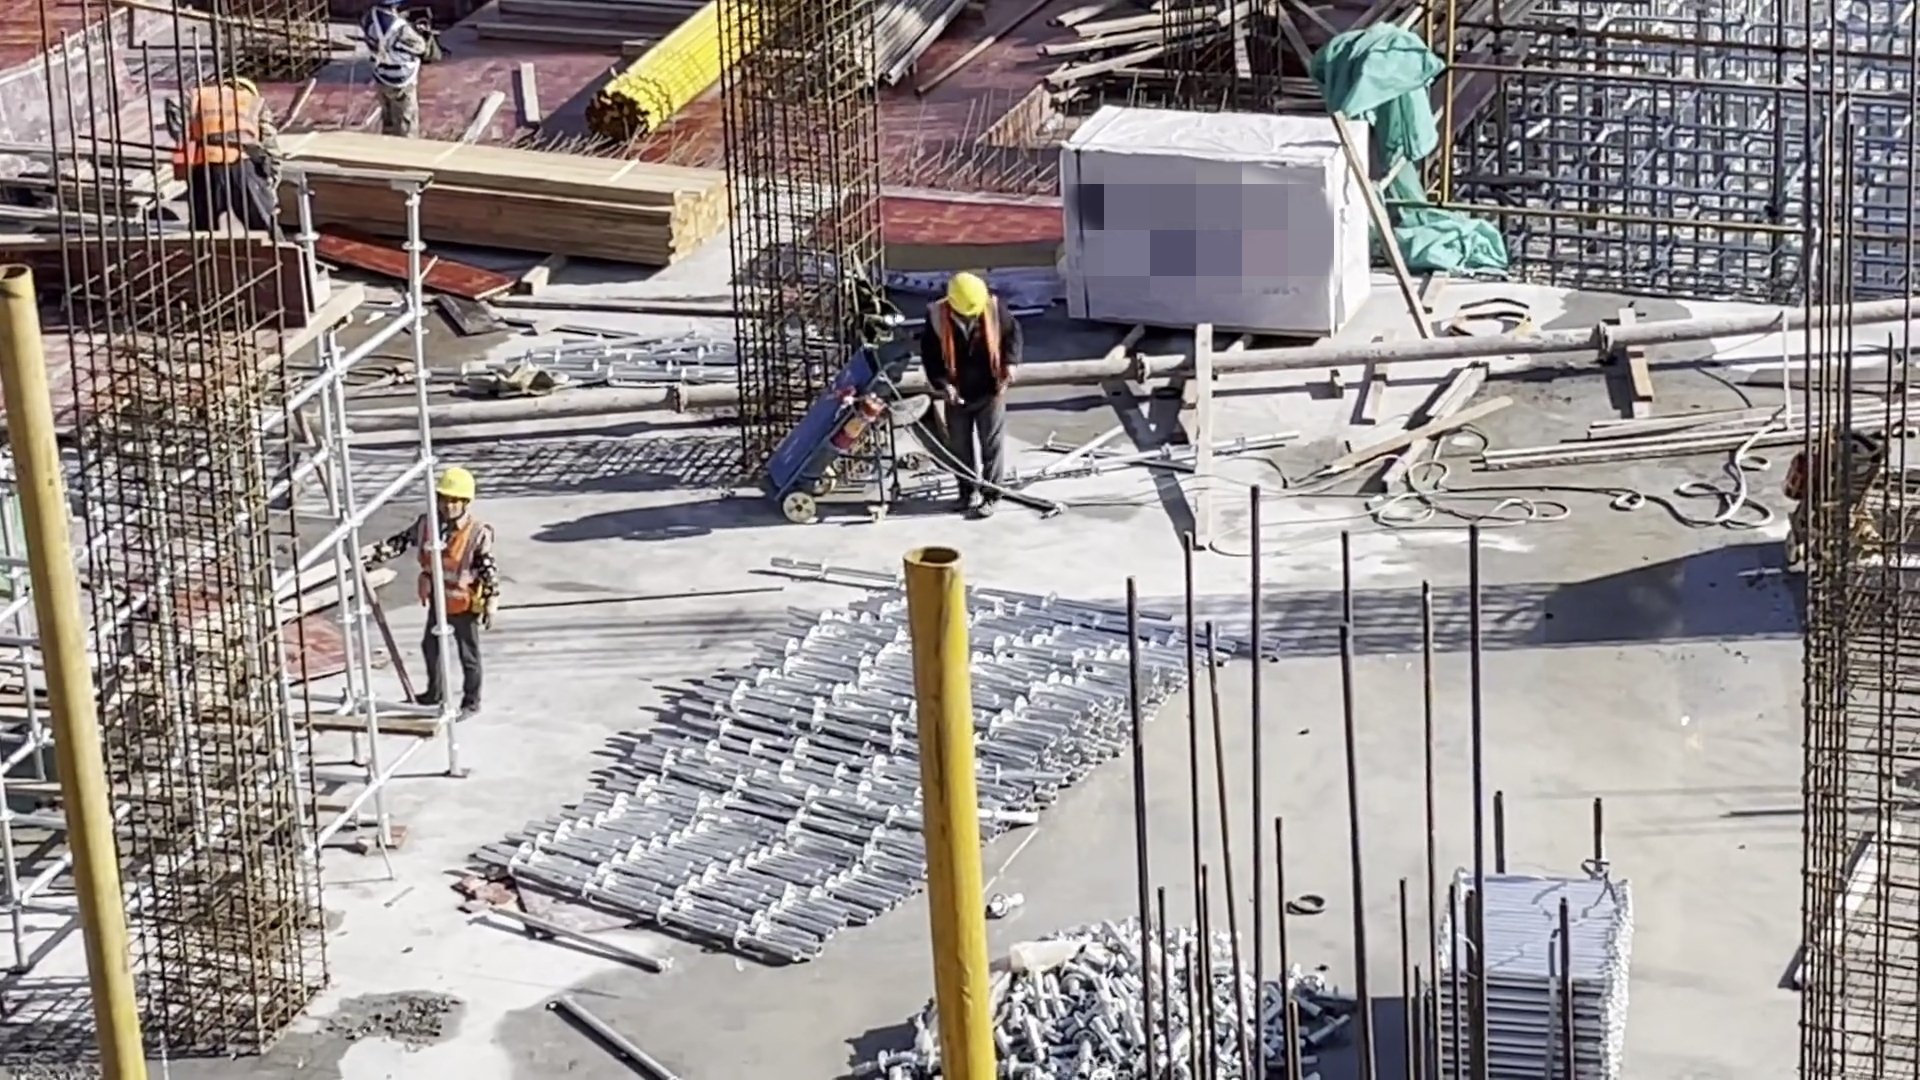helmet: (941, 271, 989, 316), (436, 469, 483, 498)
person: (360, 469, 510, 723), (919, 268, 1030, 520), (171, 78, 281, 227), (359, 8, 430, 132)
scaffold: (473, 550, 1288, 964), (1433, 865, 1636, 1080)
vest: (933, 299, 1010, 403), (421, 514, 484, 620), (184, 86, 266, 164), (361, 17, 418, 84)
wood: (291, 130, 729, 272)
